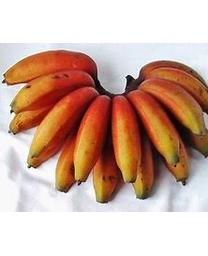banana: (1, 48, 203, 204)
